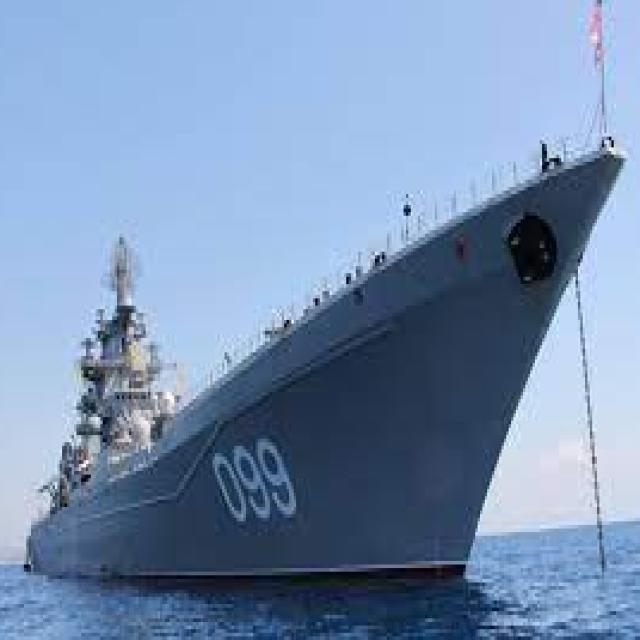navalvessels: (28, 121, 629, 625)
